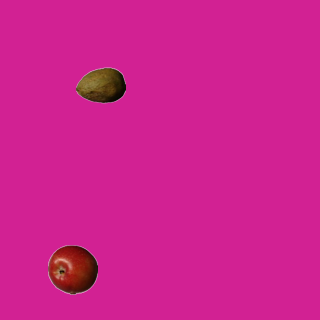Apple Braeburn: (47, 244, 97, 294)
Papaya: (75, 60, 125, 110)
